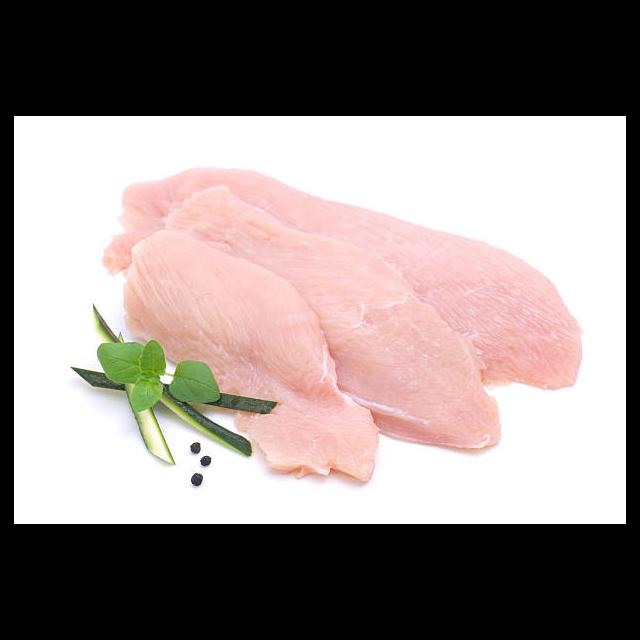chicken: (106, 170, 581, 483)
